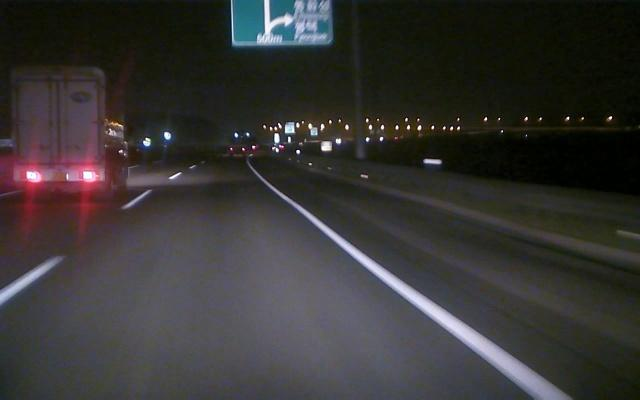lane: (253, 170, 571, 397), (1, 187, 153, 304)
